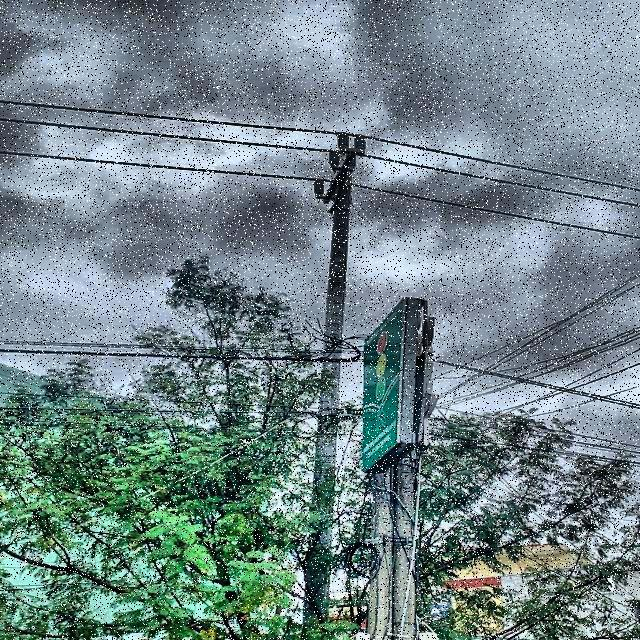pole: (299, 171, 354, 640)
wire: (0, 116, 640, 210), (0, 151, 640, 242), (0, 100, 640, 189), (428, 362, 640, 408), (0, 347, 352, 364)
